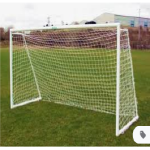goals: (9, 22, 139, 136)
